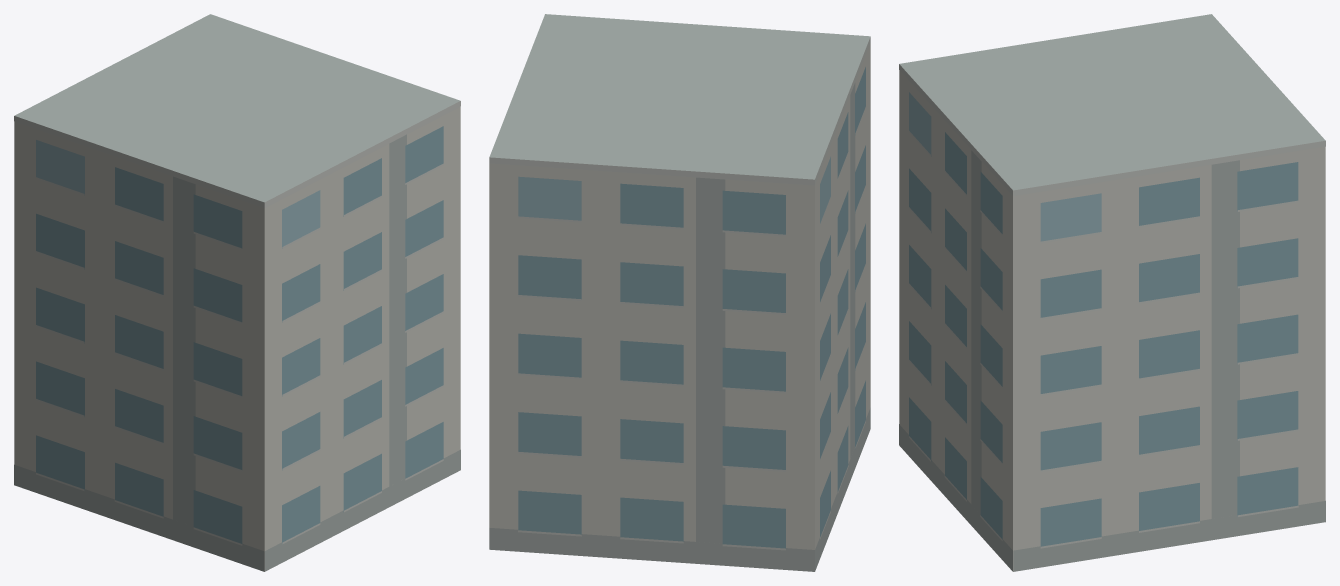
File: survey-upis-32994188.glb
3 views of the same model, side by side, from view 1: azimuth 30°, elevation 25°; view 2: azimuth 150°, elevation 25°; view 3: azimuth 270°, elevation 25° (orthographic). The views are drawn at different scales.
Visible parts, largest first — view 1: survey-upis-32994188.tmp; view 2: survey-upis-32994188.tmp; view 3: survey-upis-32994188.tmp.
Part boxes in pixels (<box>): survey-upis-32994188.tmp: <box>14,14,460,571</box>; survey-upis-32994188.tmp: <box>489,14,870,571</box>; survey-upis-32994188.tmp: <box>899,14,1325,571</box>.
Bounding box in the file's own units: 15.69 × 15.8 × 16.03.
